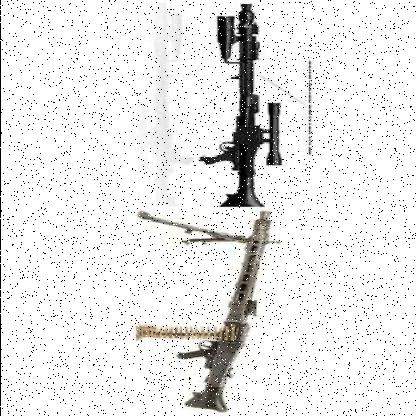rifle: (121, 207, 299, 412), (166, 3, 308, 211)
